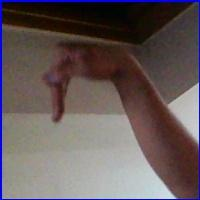A: (45, 42, 145, 130)
